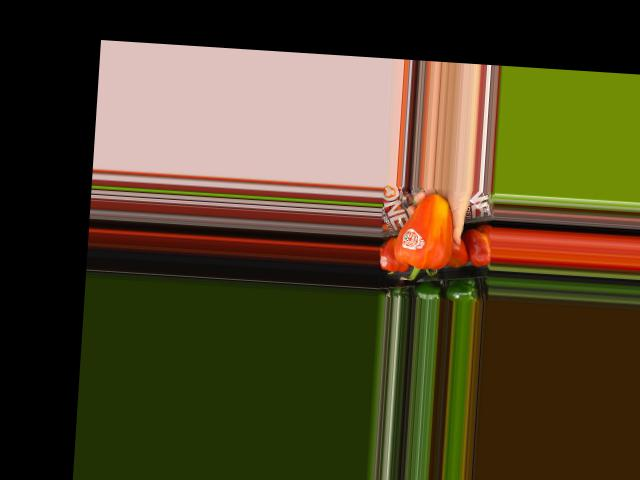bell_pepper: (390, 193, 462, 284)
